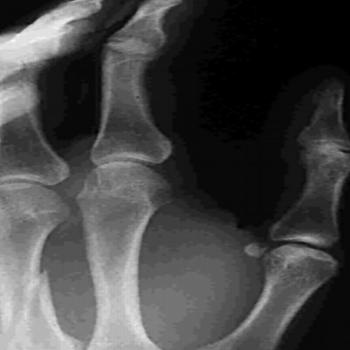Fracture: (14, 260, 58, 306)
